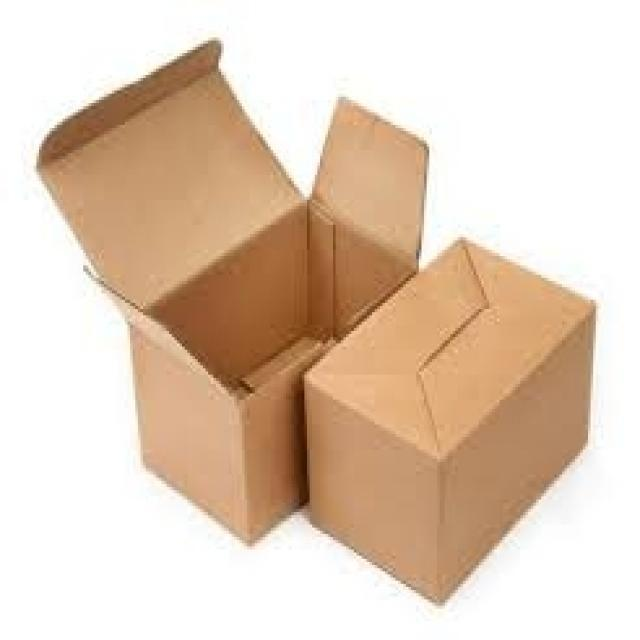cardboard paper: (41, 42, 424, 538), (304, 239, 592, 599)
